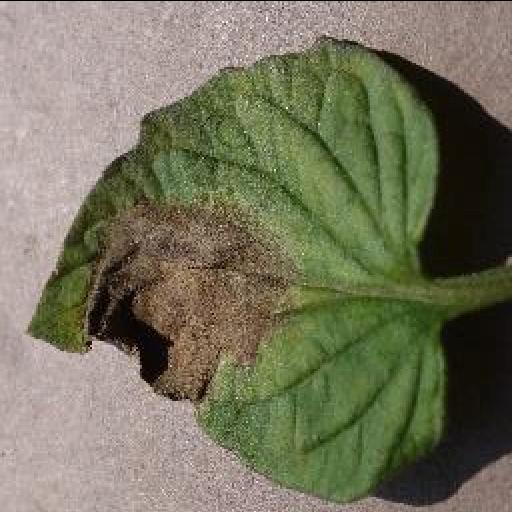disease_tomato: (24, 32, 446, 504)
